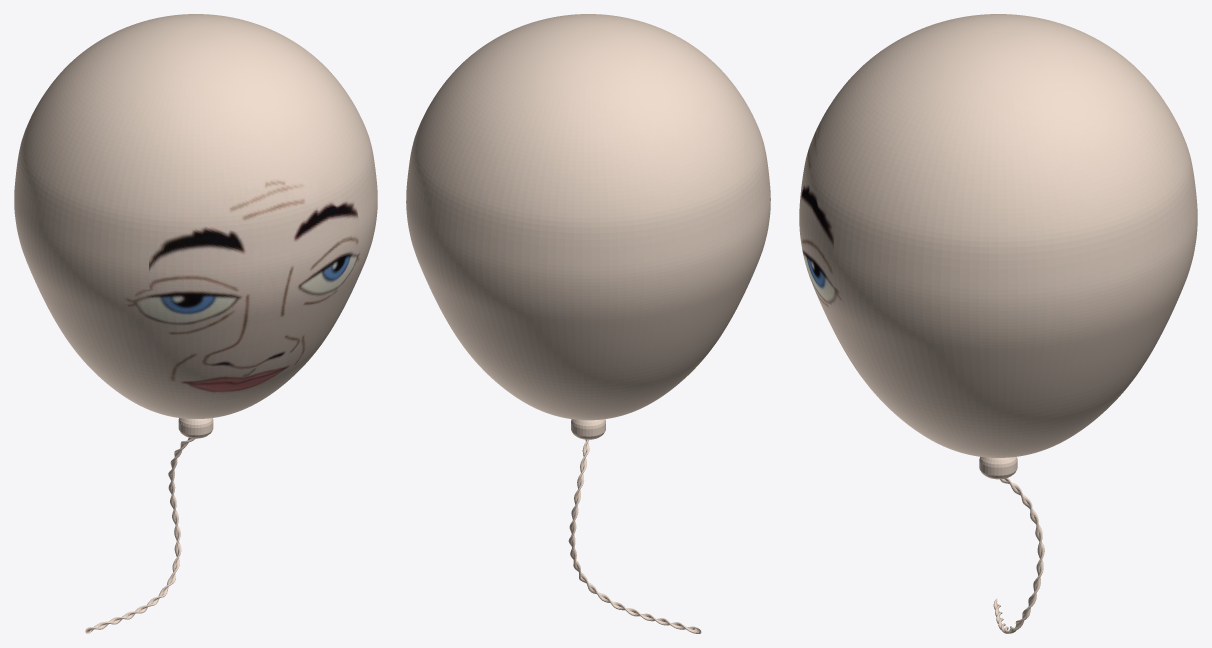
File: ballonyFinal.obj
The picture shows the model from 3 angles, left to right: view 1: azimuth 30°, elevation 25°; view 2: azimuth 150°, elevation 25°; view 3: azimuth 270°, elevation 25°; orthographic projection. The views are drawn at different scales.
Visible parts, largest first — view 1: Balloony, Balloony_thread, Balloony_pito; view 2: Balloony, Balloony_thread, Balloony_pito; view 3: Balloony, Balloony_thread, Balloony_pito.
Part boxes in pixels (x1,y1,x2,y2): Balloony: (14, 14, 377, 418); Balloony_thread: (85, 437, 195, 633); Balloony_pito: (178, 418, 213, 438); Balloony: (406, 14, 770, 420); Balloony_thread: (568, 439, 701, 633); Balloony_pito: (571, 419, 605, 439); Balloony: (799, 14, 1197, 457); Balloony_thread: (993, 478, 1044, 633); Balloony_pito: (979, 456, 1017, 479).
Bounding box in the file's own units: 2.21 × 3.84 × 2.21.
